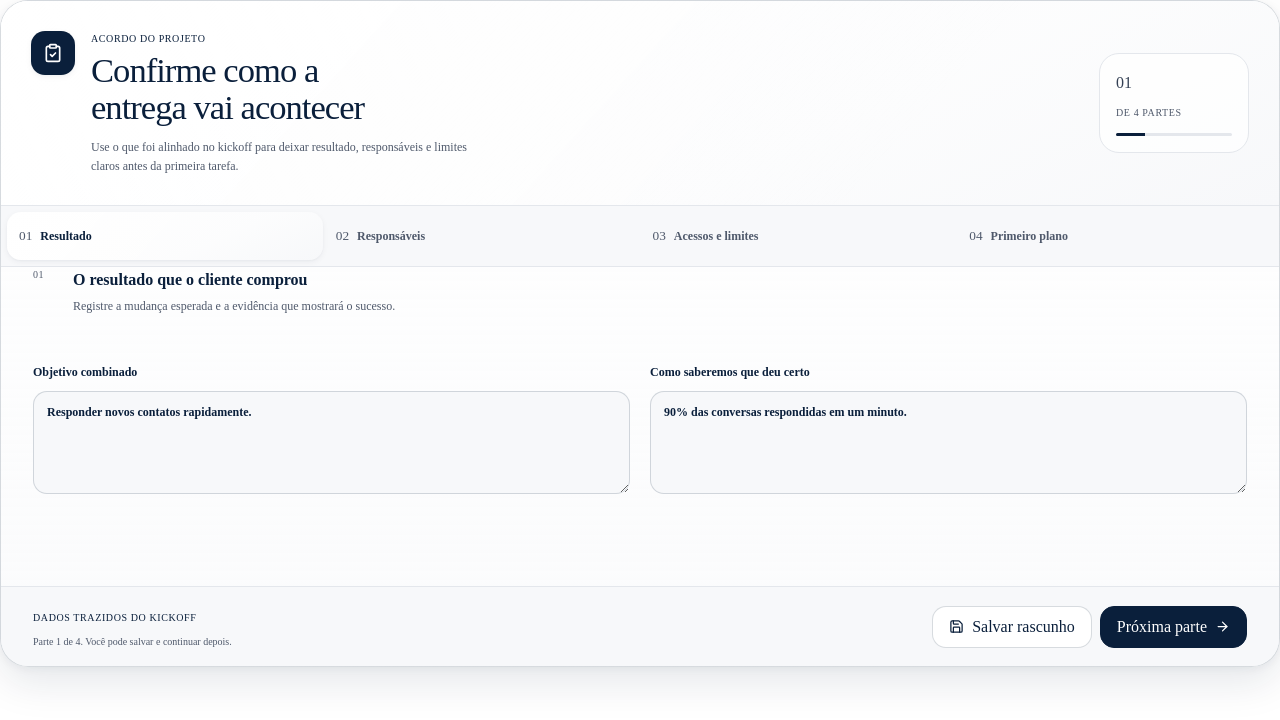
Test: BriefingKickoff › mostra uma parte do acordo por vez e preserva os dados do kickoff
The width and height of the screenshot is (1280, 720).
Expected: the heading "Confirme como a entrega vai acontecer" is shown, x1=91 y1=50 x2=364 y2=126
Expected: the panel named "Resultado esperado" is shown, x1=1 y1=267 x2=1279 y2=587
Click the tab "02 Responsáveis" at (391, 236), box x1=324 y1=212 x2=640 y2=260
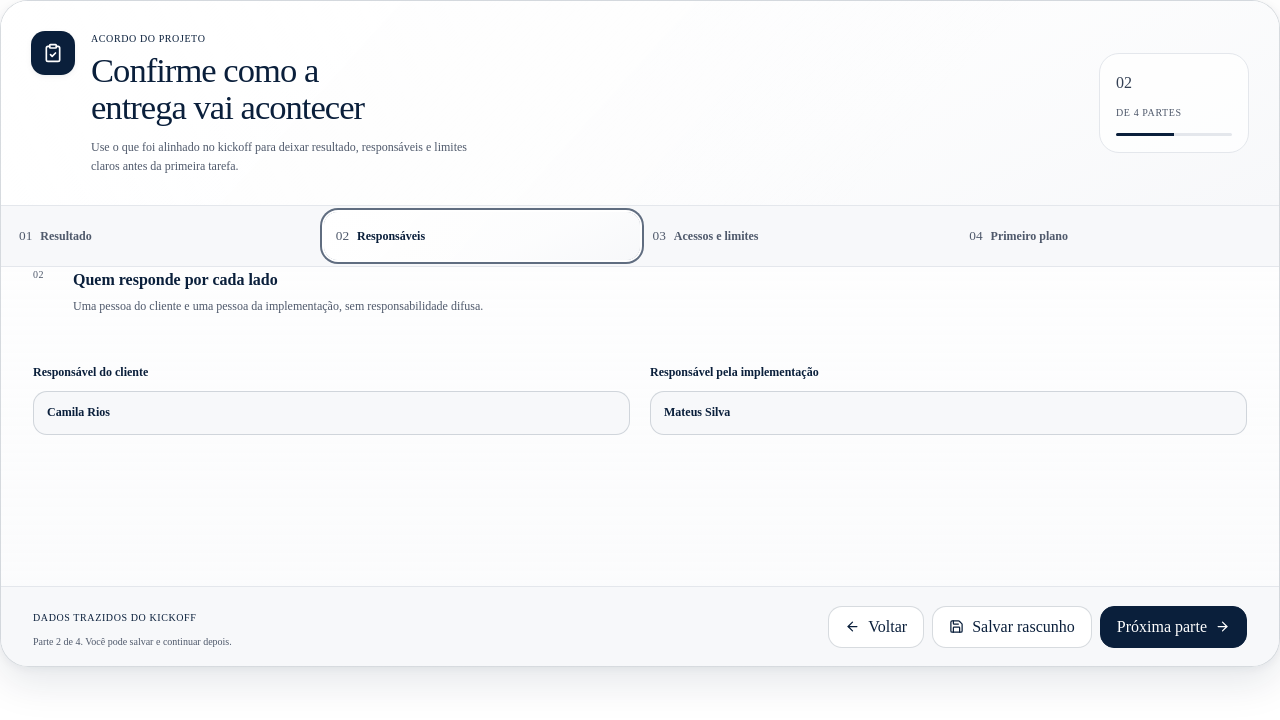
Expected: the field labelled "Responsável do cliente" holds "Camila Rios", x1=33 y1=391 x2=630 y2=435
Click the tab "03 Acessos e limites" at (716, 236), box x1=640 y1=212 x2=956 y2=260
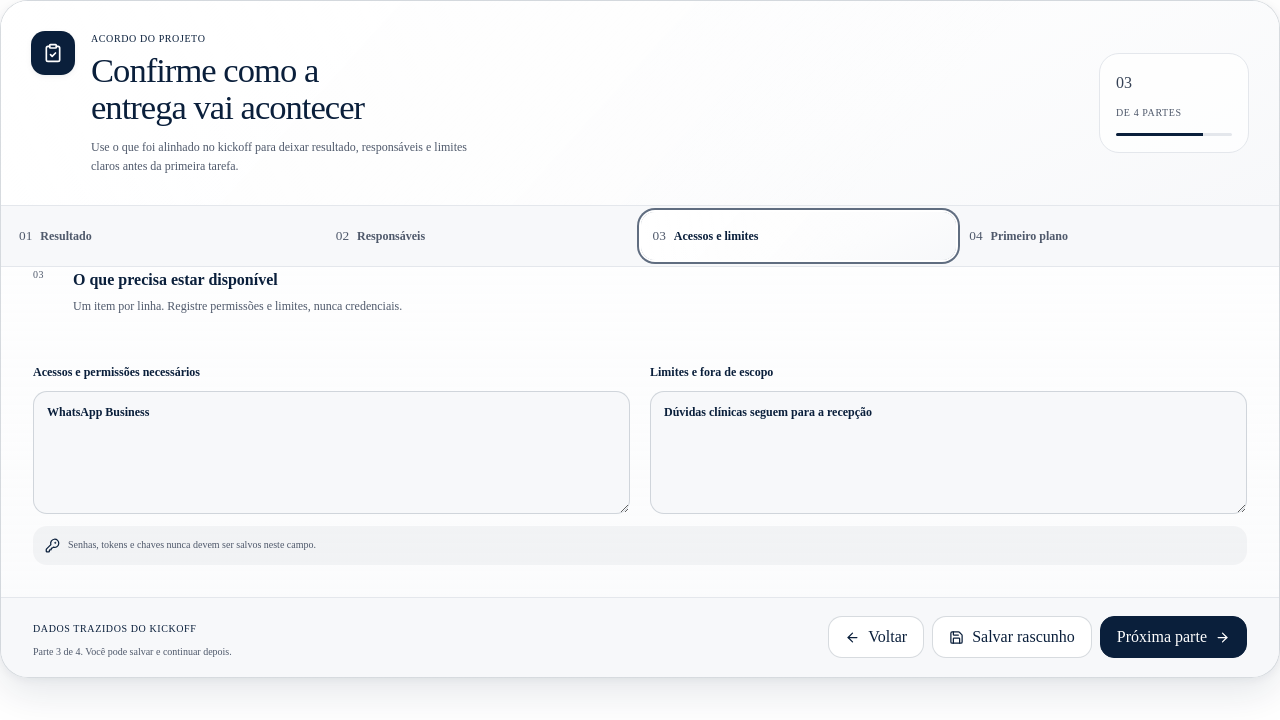
Expected: the text "Senhas, tokens e chaves nunca devem ser salvos neste campo." is shown, x1=68 y1=538 x2=316 y2=552
